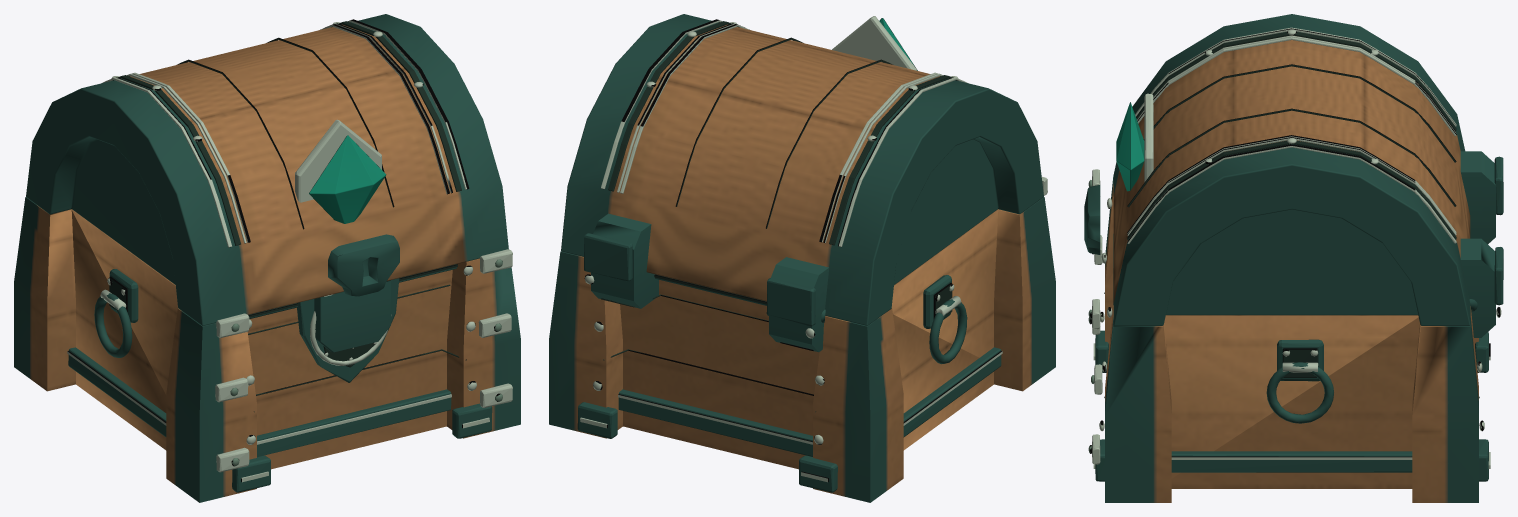
File: verdant-oath.glb
The picture shows the model from 3 angles, left to right: view 1: azimuth 30°, elevation 25°; view 2: azimuth 150°, elevation 25°; view 3: azimuth 270°, elevation 25°; orthographic projection.
Parts seen in each view (by area): view 1: LidShell, Body; view 2: LidShell, Body; view 3: LidShell, Body.
Part boxes in pixels (box(x1,y1,x2,y2)): LidShell: box(26, 14, 508, 352); Body: box(14, 197, 520, 502); LidShell: box(561, 14, 1043, 325); Body: box(549, 177, 1055, 502); LidShell: box(1084, 14, 1470, 325); Body: box(1088, 151, 1503, 502).
Bounding box in the file's own units: 2 × 2 × 2.24.
1 material, 1 textured.
